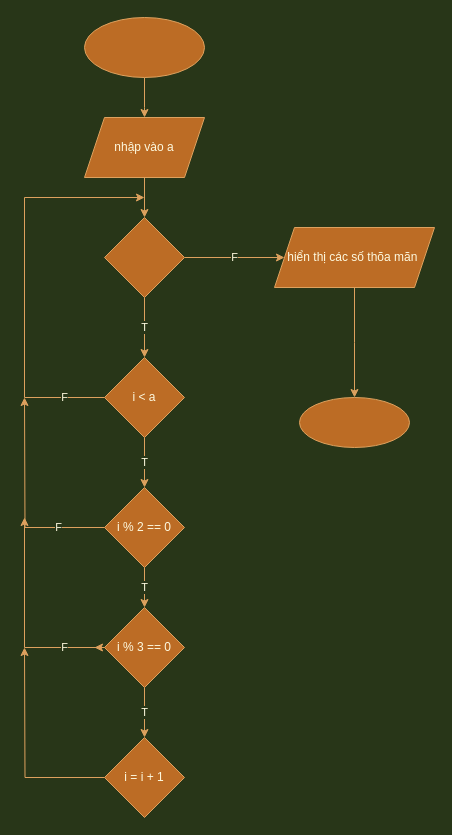
Some shapes in this 452 by 835 pixel diagram are drawn without their labels. Here are the shapes that lost their labels. From the top down, the centre of each, then its label:
the point at 144,47: start
the point at 144,257: i > 0
the point at 354,422: end
